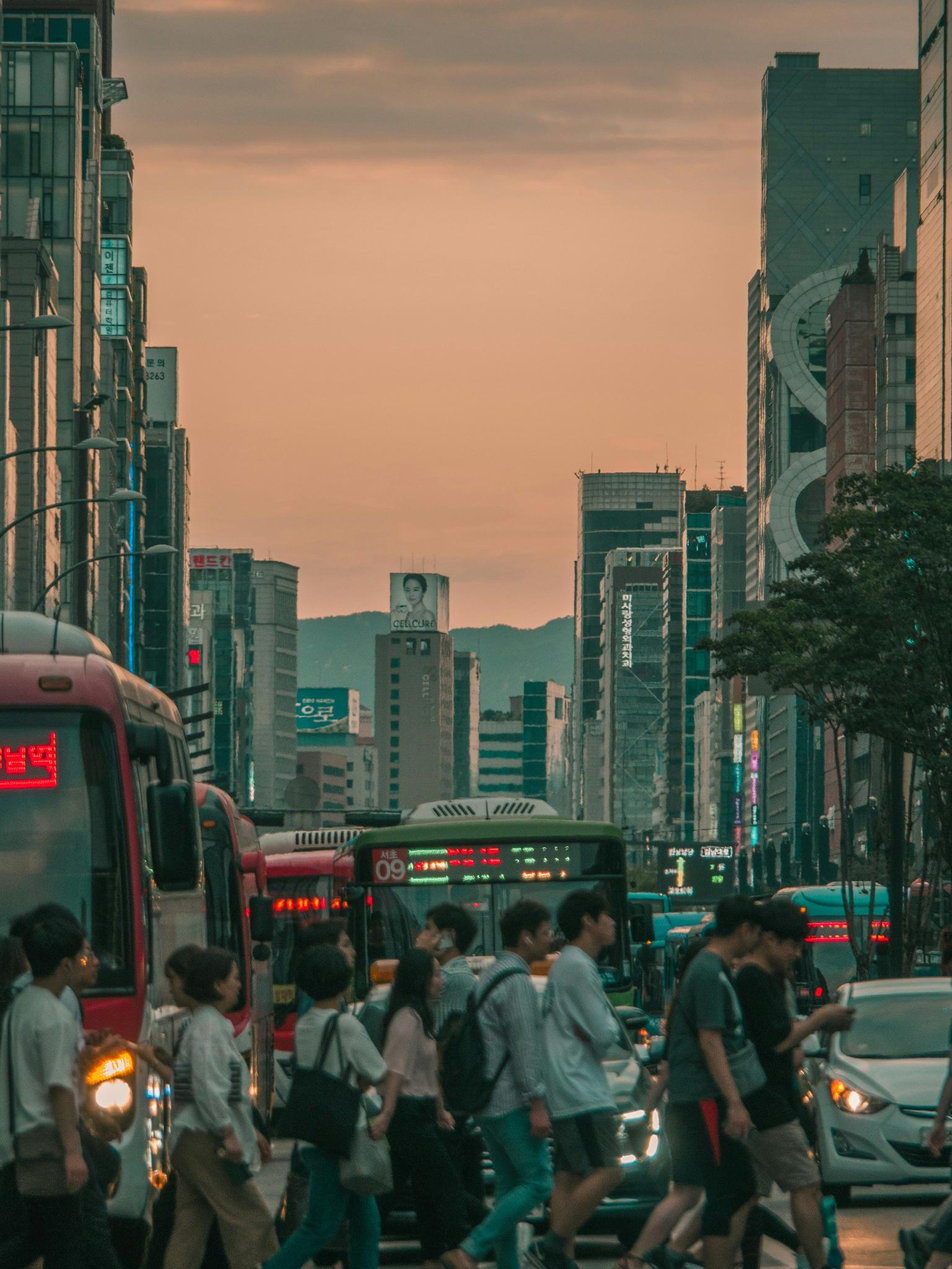car: (803, 976, 951, 1223)
pedestrian: (626, 898, 768, 1269), (421, 902, 552, 1269), (0, 901, 122, 1266), (736, 908, 855, 1269), (270, 946, 397, 1269), (154, 941, 278, 1266), (538, 894, 639, 1269), (369, 921, 474, 1269), (427, 902, 484, 1237), (907, 1021, 952, 1265)
